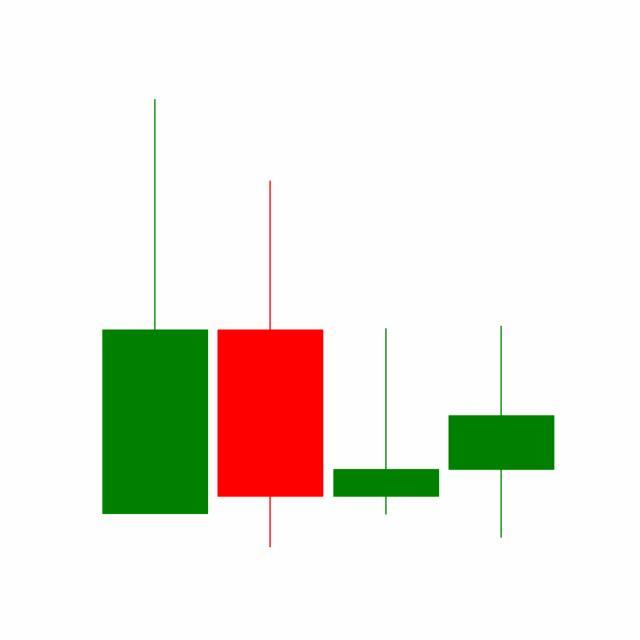Spinning Top: (444, 324, 560, 541)
